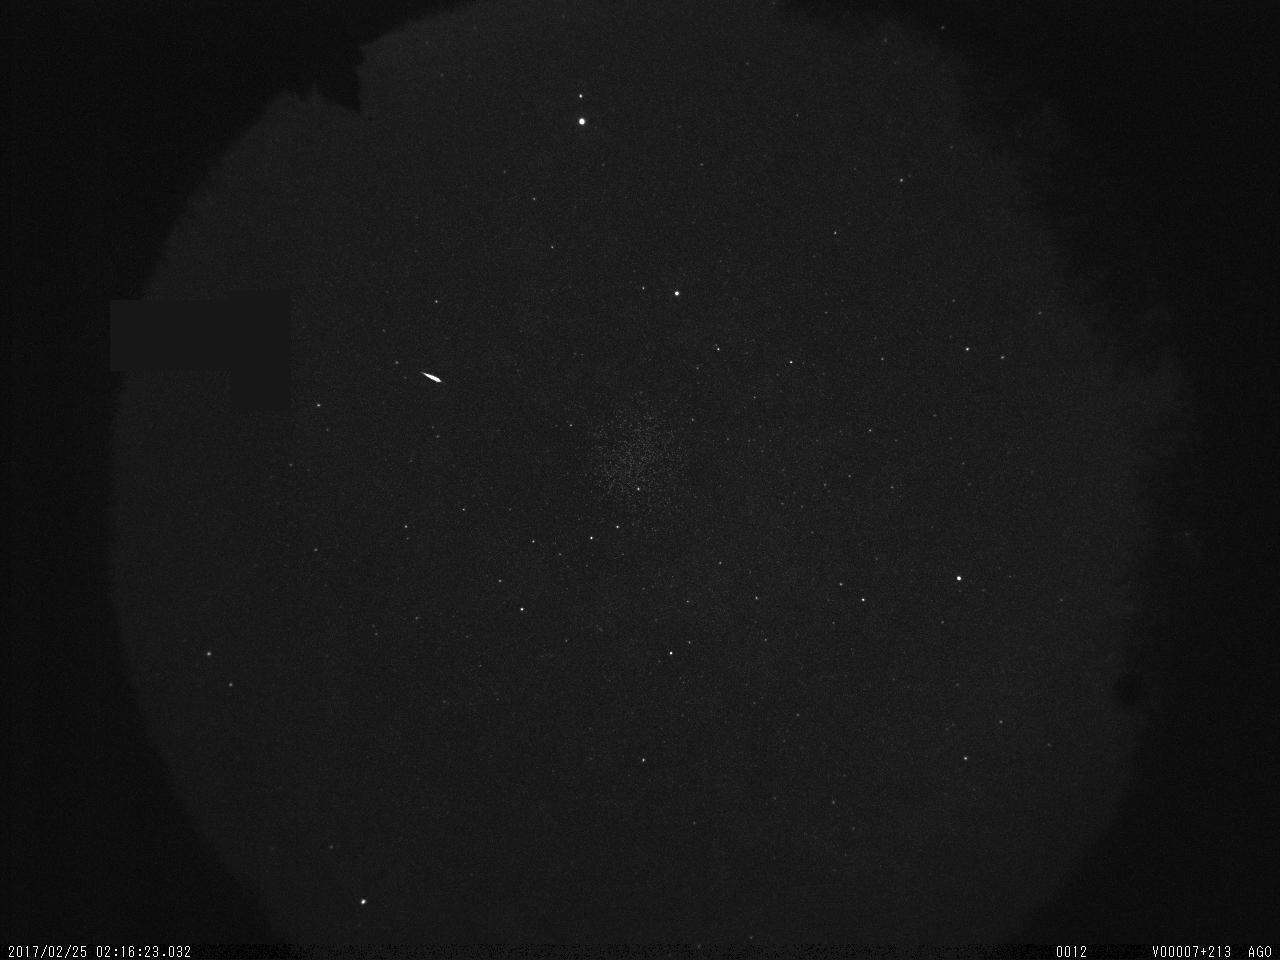Meteor: (418, 364, 448, 389)
